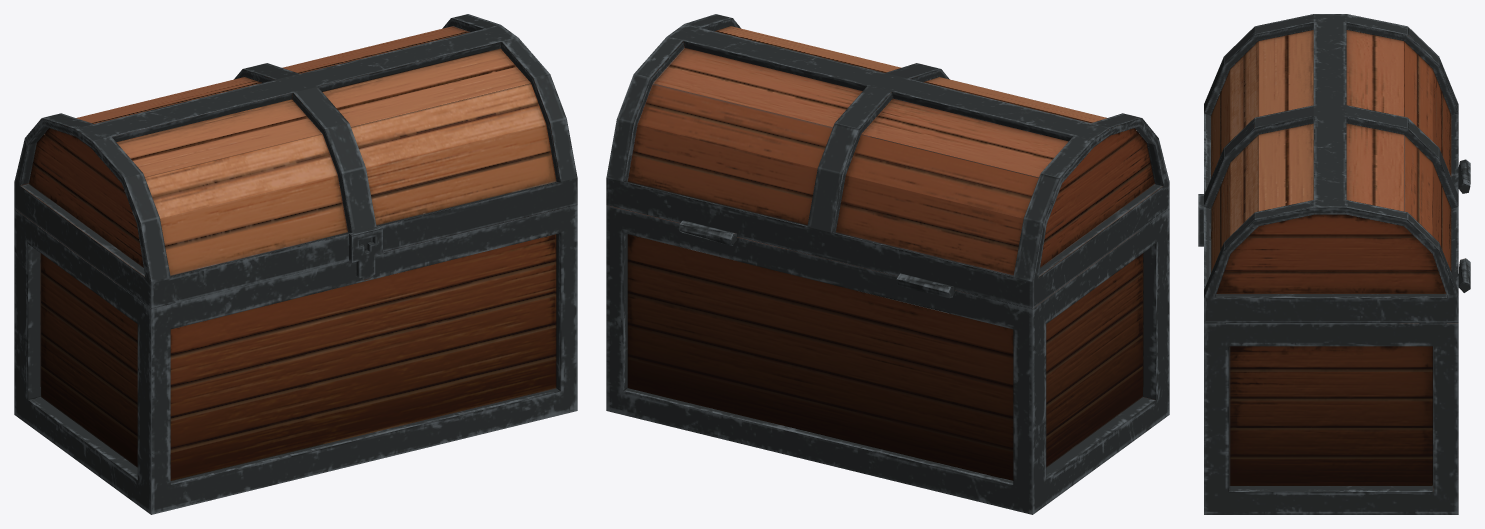
The model's file is Chest_All.fbx.
The picture shows the model from 3 angles, left to right: view 1: azimuth 30°, elevation 25°; view 2: azimuth 150°, elevation 25°; view 3: azimuth 270°, elevation 25°; orthographic projection. The views are drawn at different scales.
Visible parts, largest first — view 1: chest.002; view 2: chest.002; view 3: chest.002.
Part boxes in pixels (x1,y1,x2,y2): chest.002: [14, 14, 577, 514]; chest.002: [606, 14, 1169, 514]; chest.002: [1198, 14, 1470, 514].
Size of the model in its own units: 108 by 79.89 by 64.12.
Materials: 1 (1 with a texture image).
